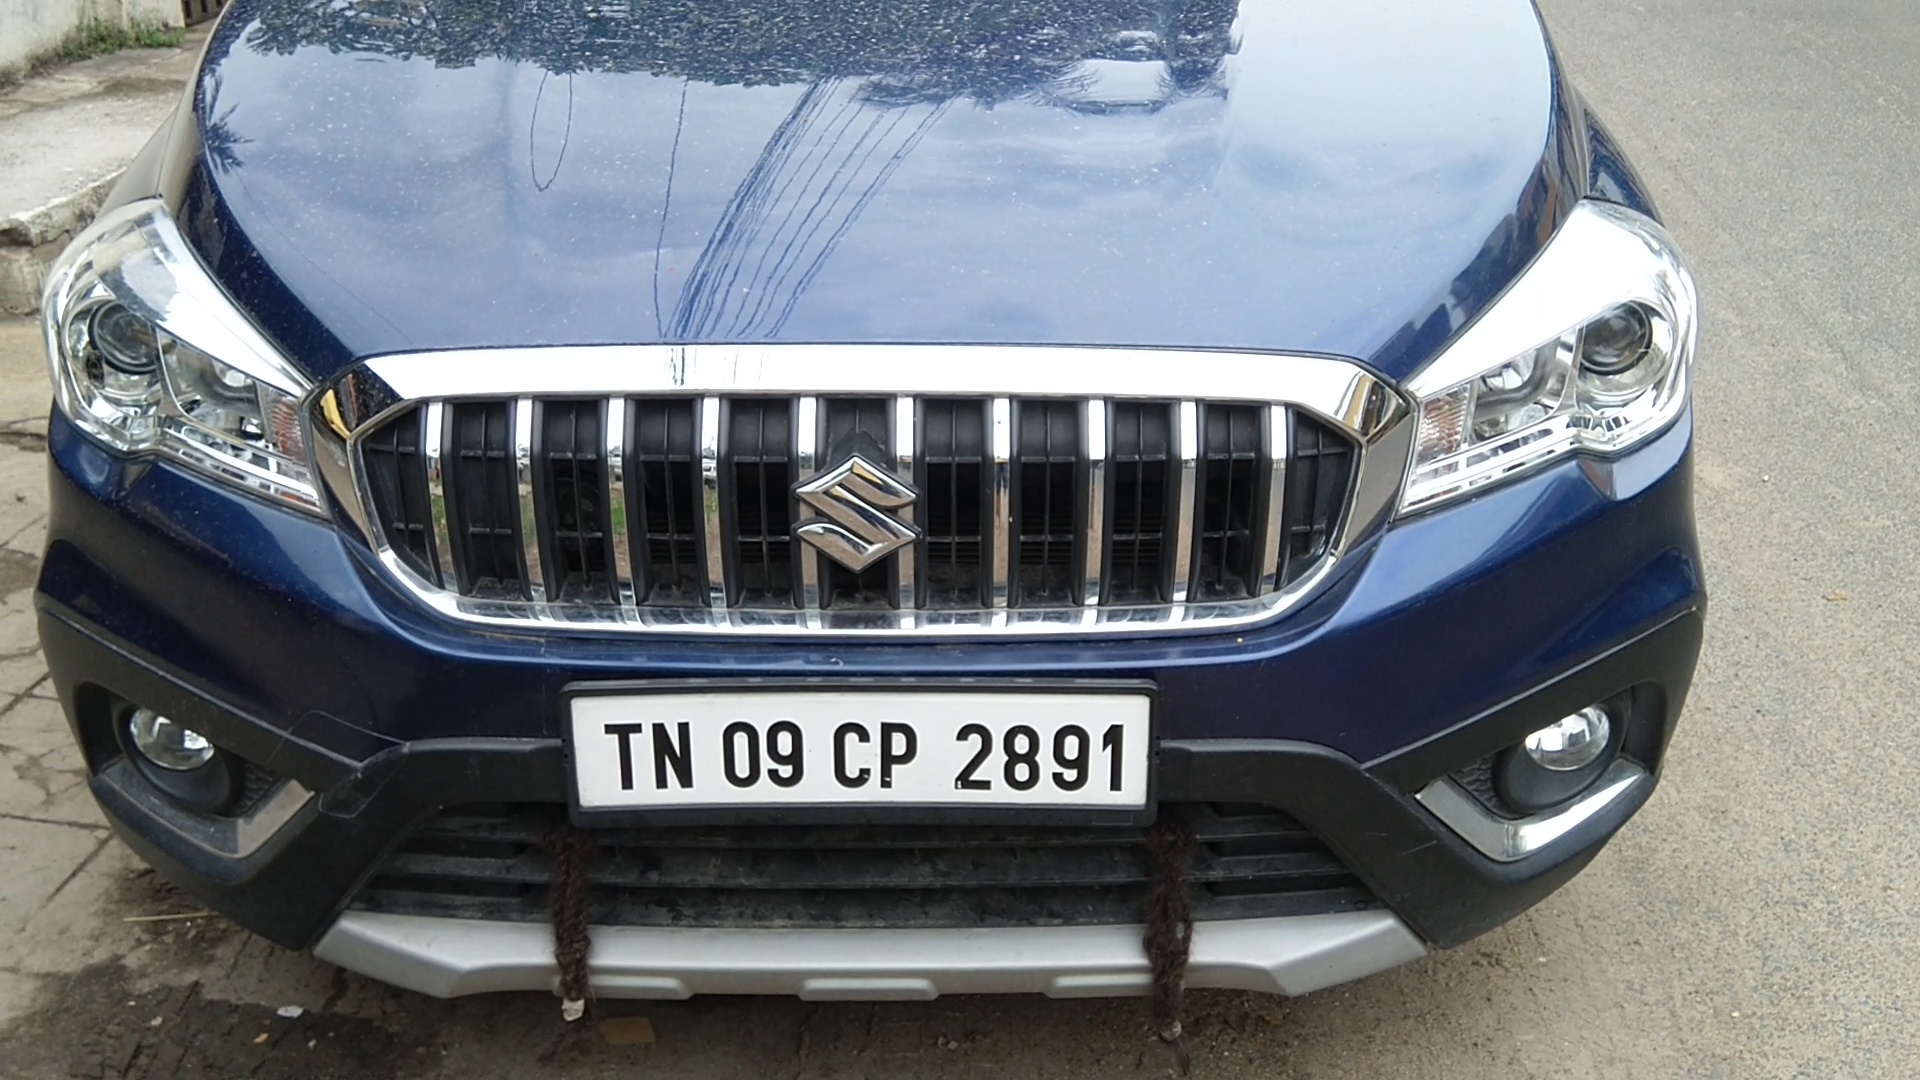front_grill: (335, 331, 1400, 669), (1403, 185, 1700, 553)
headlamp: (29, 199, 328, 516)
